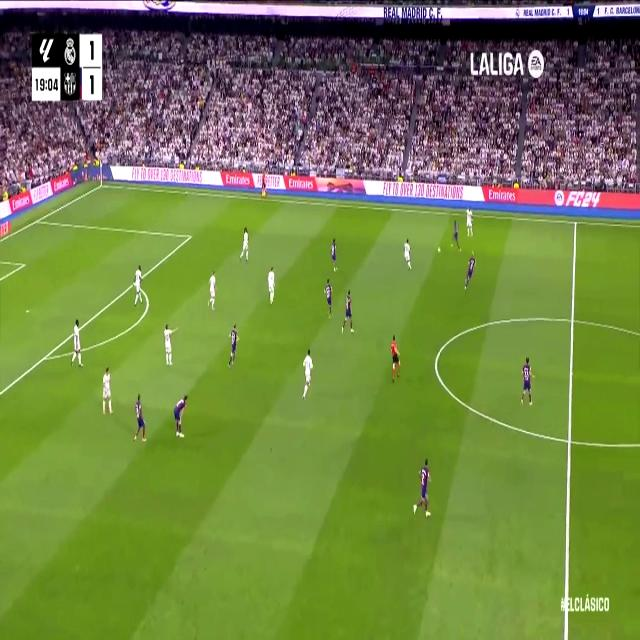bigarea_top_inner: (187, 229, 192, 243)
bigarea_top_outter: (34, 214, 40, 224)
bottom_arc_area_intersection: (42, 350, 48, 363)
corner: (98, 180, 105, 190)
halfcircle_bottom: (564, 426, 576, 454)
halfcircle_top: (567, 308, 579, 331)
midline_top_intersection: (572, 214, 580, 230)
smallarea_top_inner: (21, 260, 25, 269)
top_arc_area_intersection: (132, 277, 138, 289)
